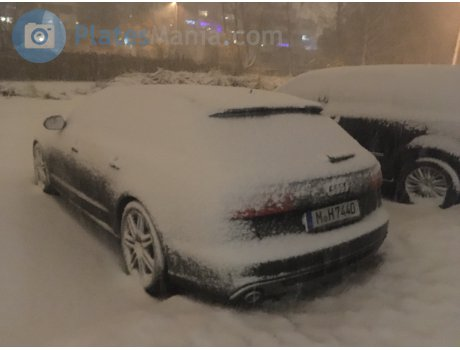License Plates: (308, 204, 363, 222)
